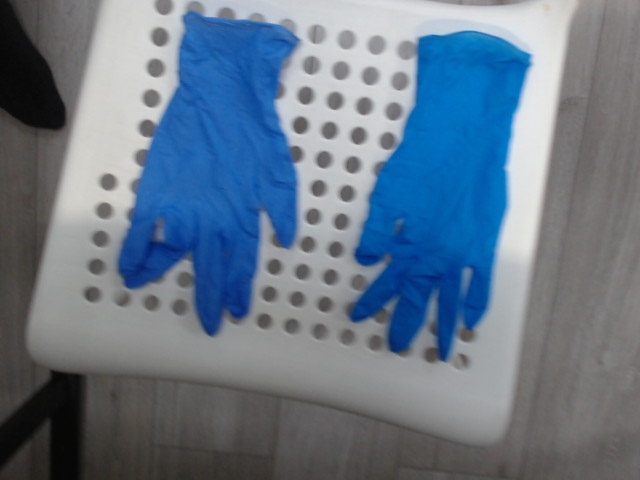medical_glove: (356, 31, 533, 359), (118, 10, 295, 336)
